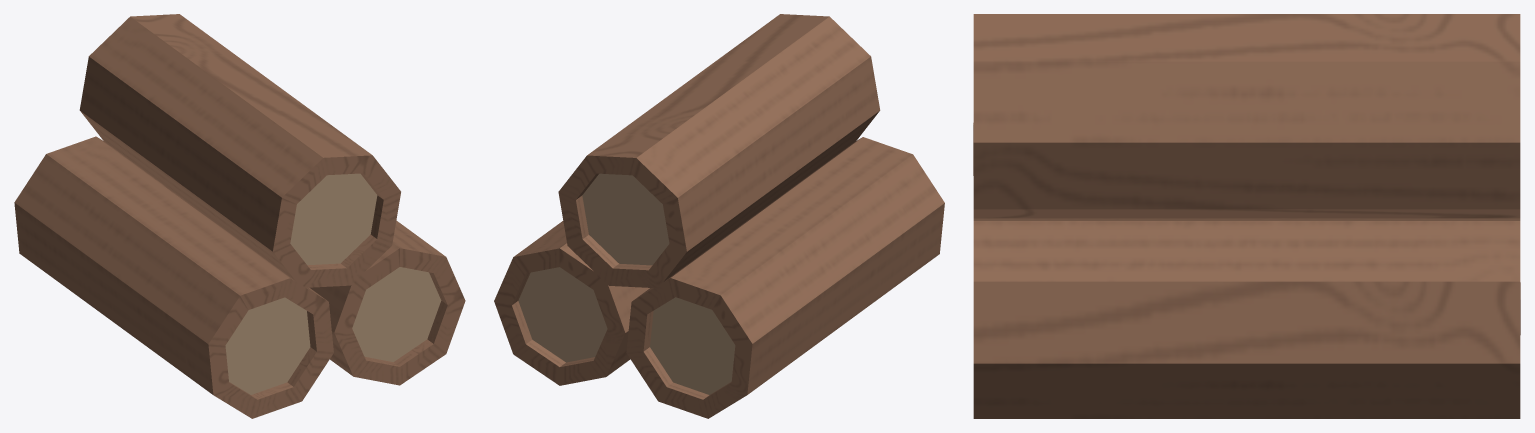
Rendered from Log_pile_tripple.fbx.
3 renders of one model, left to right at view 1: azimuth 30°, elevation 25°; view 2: azimuth 150°, elevation 25°; view 3: azimuth 270°, elevation 25°, orthographic. The views are drawn at different scales.
Parts seen in each view (by area): view 1: Log_pile_tripple; view 2: Log_pile_tripple; view 3: Log_pile_tripple.
Part boxes in pixels (x1=…): Log_pile_tripple: x1=14, y1=14, x2=465, y2=418; Log_pile_tripple: x1=494, y1=14, x2=944, y2=418; Log_pile_tripple: x1=973, y1=14, x2=1520, y2=418.
Bounding box in the file's own units: 80.66 × 73.57 × 105.
